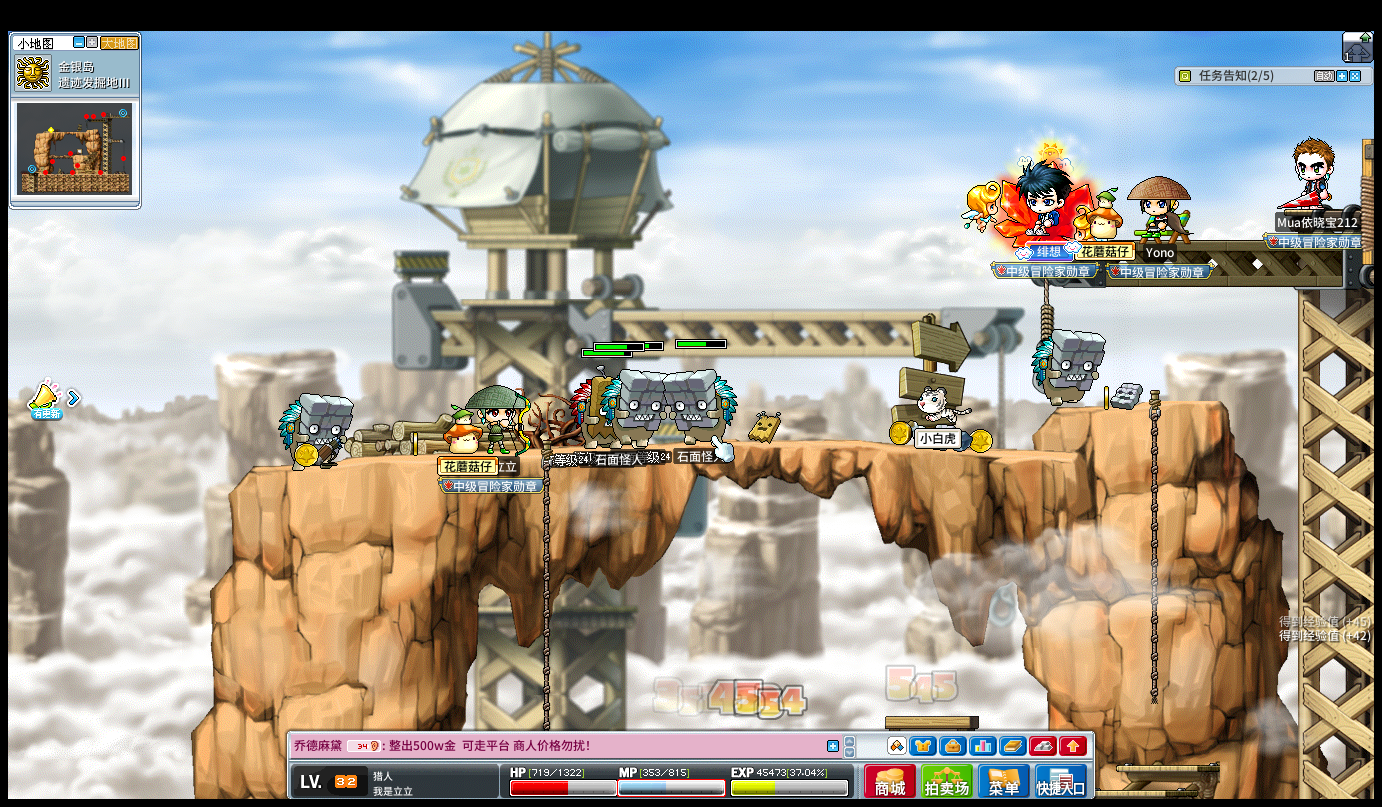floor: (251, 436, 1149, 457), (1064, 395, 1225, 412), (1115, 763, 1217, 773)
monster: (1031, 329, 1106, 408), (277, 393, 353, 468), (666, 368, 737, 444), (602, 369, 664, 446)
rope: (539, 440, 552, 807), (1146, 386, 1160, 704), (540, 438, 551, 713)
